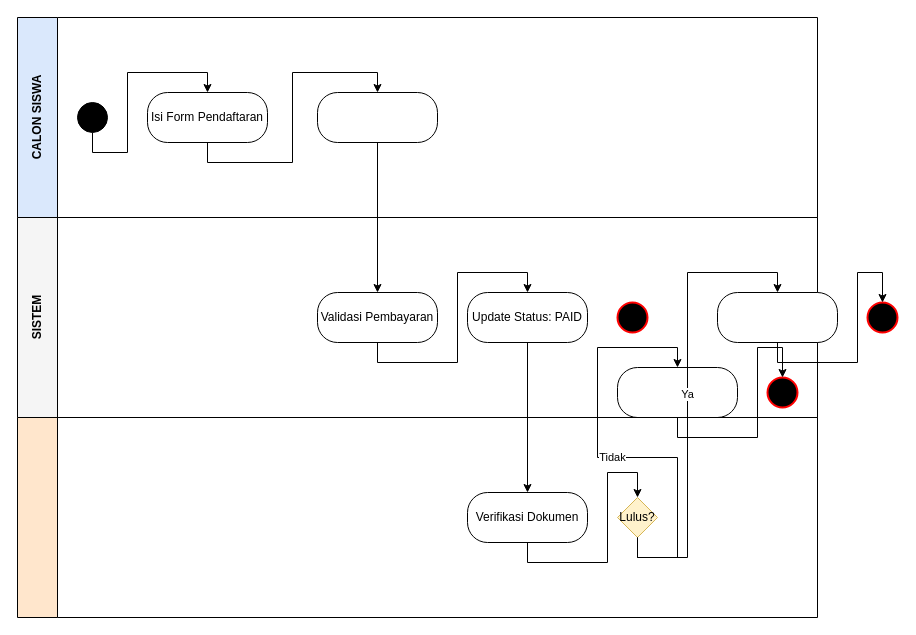
The diagram is 916 pixels wide and 635 high, and some of its shapes have lost their labels. Here are the shapes that lost their labels. From the top down, the box of each, then its label:
(316, 92, 438, 142): Bayar Biaya Pendaftaran
(716, 292, 838, 342): Generate Akun Siswa
(616, 366, 738, 418): Kirim Notifikasi Ditolak
(16, 416, 818, 618): ADMIN (PANITIA)
